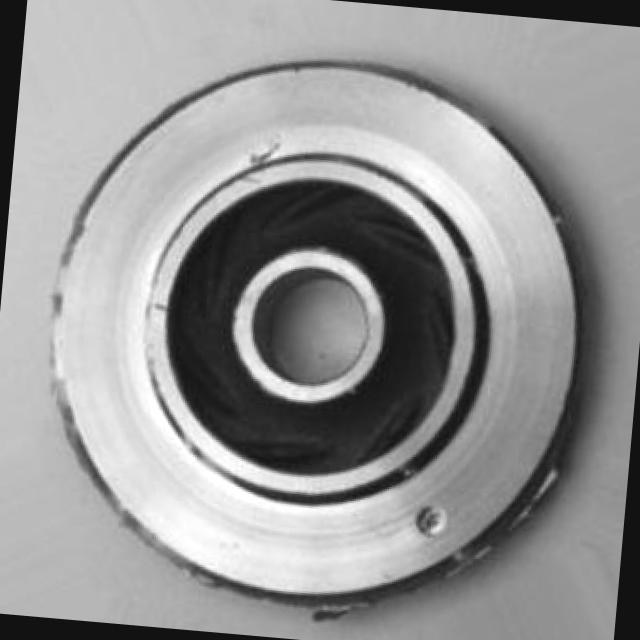Defect: (409, 500, 454, 539)
